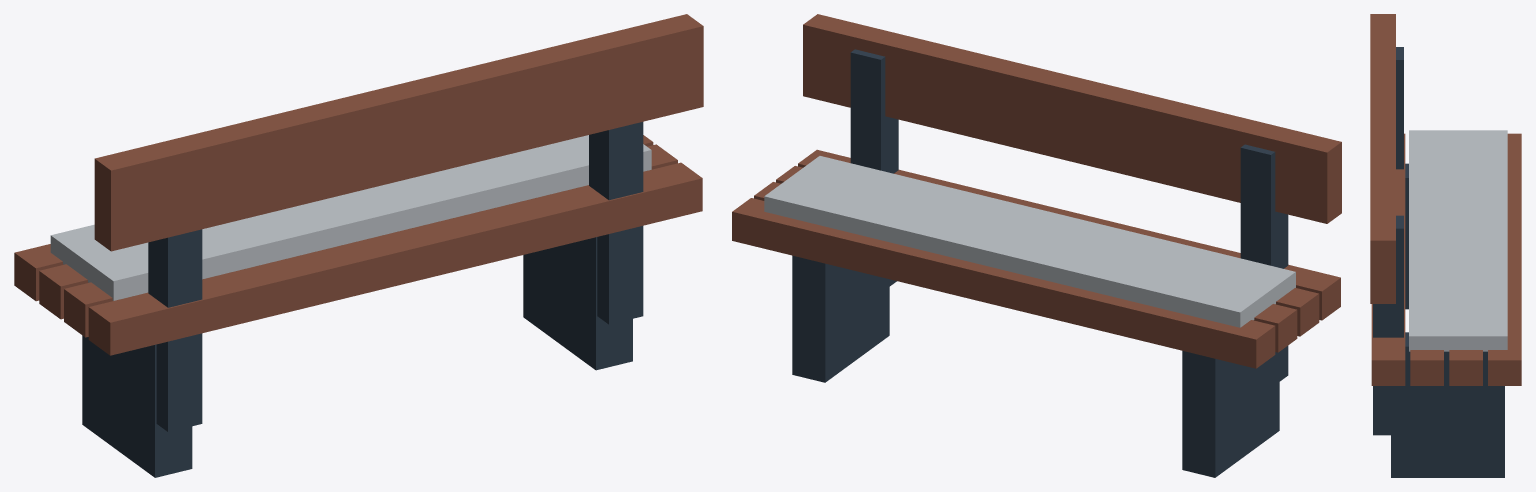
File: snow-bench.glb
3 views of the same model, side by side, from view 1: azimuth 30°, elevation 25°; view 2: azimuth 150°, elevation 25°; view 3: azimuth 270°, elevation 25° (orthographic). The views are drawn at different scales.
Visible parts, largest first — view 1: snow-bench; view 2: snow-bench; view 3: snow-bench.
Boxes of the visible parts, bbox=[...] form: snow-bench: bbox=[14, 14, 703, 477]; snow-bench: bbox=[732, 14, 1341, 477]; snow-bench: bbox=[1370, 14, 1521, 477].
Size of the model in its own units: 2.07 by 1.11 by 0.585.
